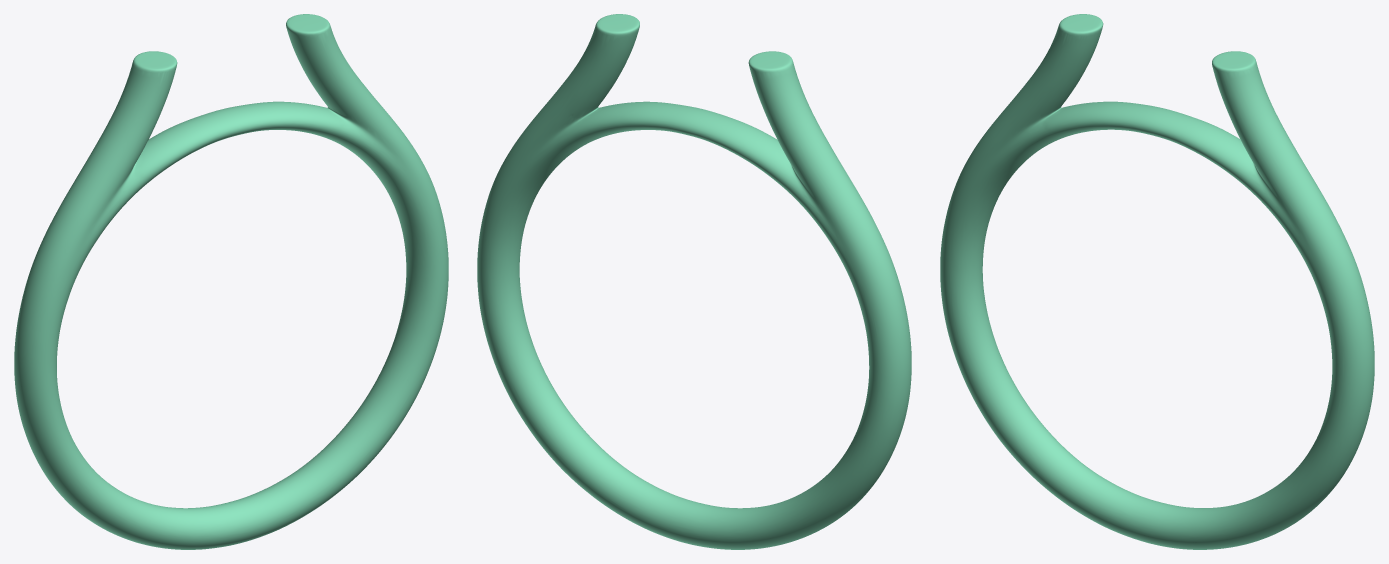
3 views of the same model, side by side, from view 1: azimuth 30°, elevation 25°; view 2: azimuth 150°, elevation 25°; view 3: azimuth 330°, elevation 25° (orthographic).
Parts seen in each view (by area): view 1: Metal02; view 2: Metal02; view 3: Metal02.
Part boxes in pixels (bbox=[...]): Metal02: bbox=[14, 14, 448, 549]; Metal02: bbox=[477, 14, 911, 549]; Metal02: bbox=[940, 14, 1374, 549].
Size of the model in its own units: 20.85 by 23.31 by 1.99.
